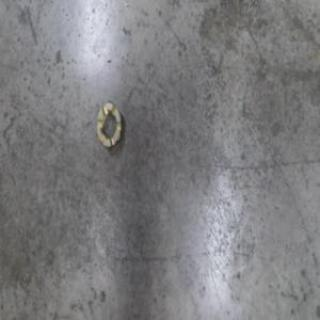Nuttrack_idkeyframe: (94, 99, 124, 151)
